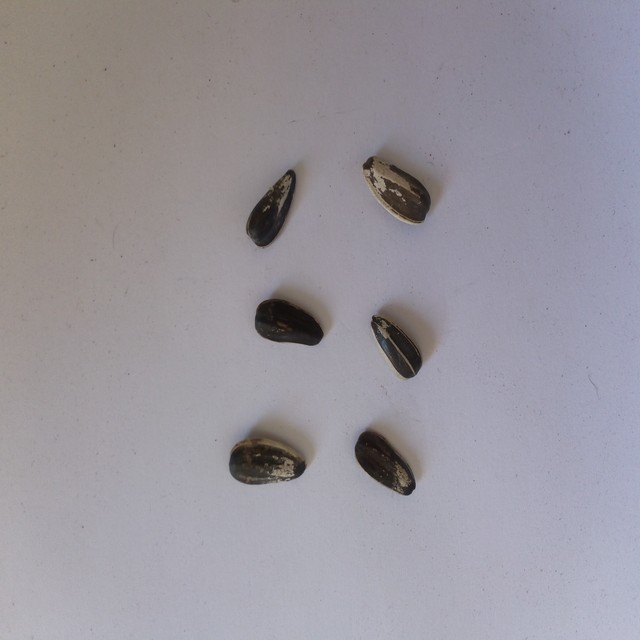girasol: (354, 149, 437, 227), (348, 427, 421, 500), (246, 293, 328, 354), (223, 434, 309, 491), (241, 165, 300, 248), (365, 309, 426, 382)
